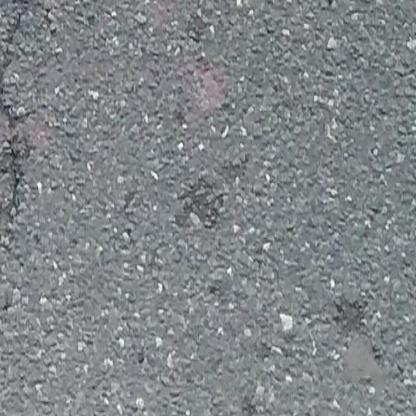Cracks: (0, 0, 29, 255)
